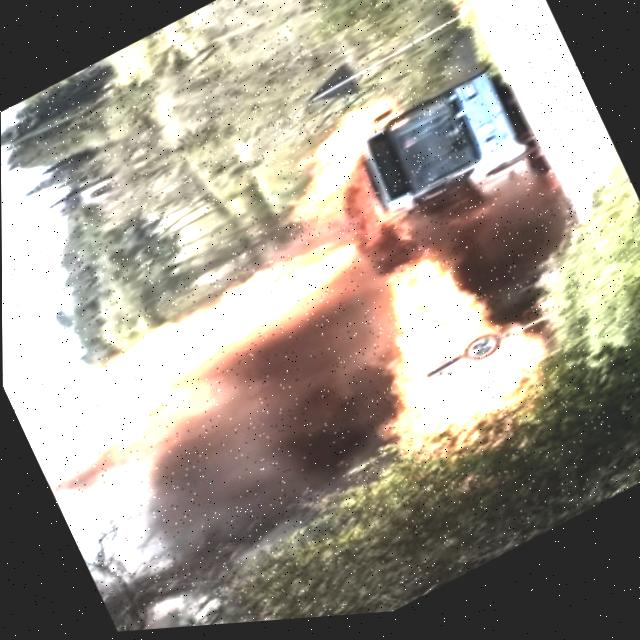Fire: (40, 224, 372, 444), (340, 221, 558, 472), (280, 93, 413, 221)
Smoke: (85, 318, 435, 635), (433, 162, 620, 362)
